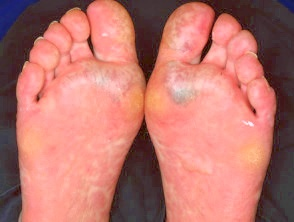SJS-TEN: (143, 0, 288, 222), (9, 0, 150, 222)
